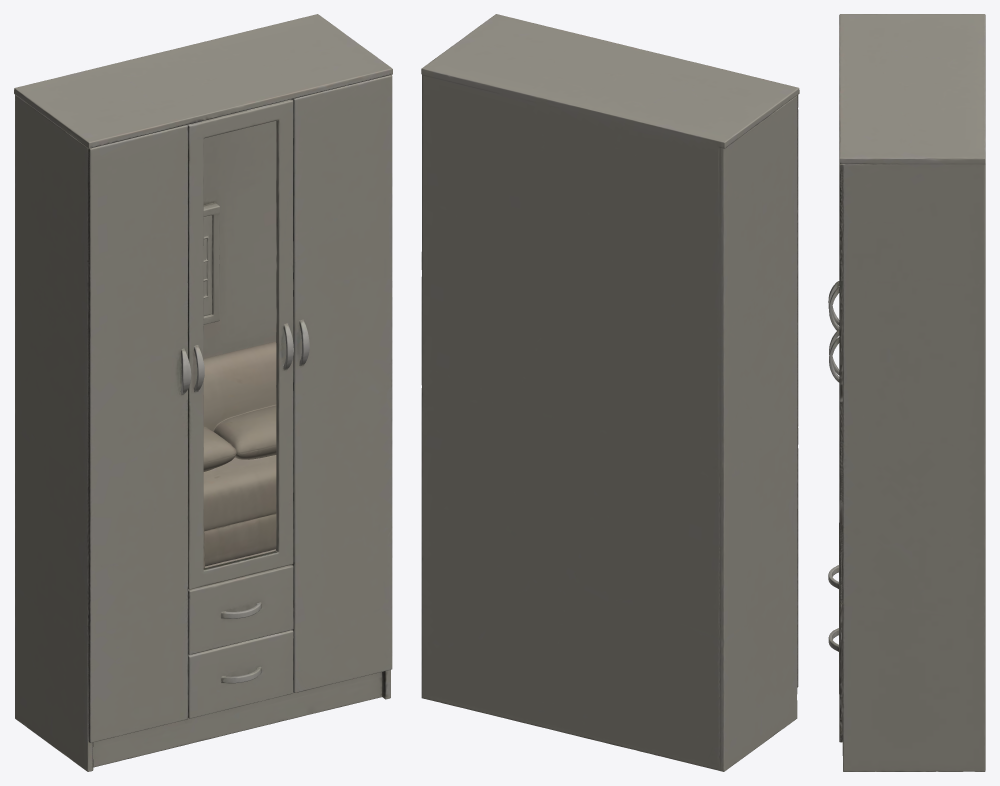
The model's file is No Name-04.glb.
3 views of the same model, side by side, from view 1: azimuth 30°, elevation 25°; view 2: azimuth 150°, elevation 25°; view 3: azimuth 270°, elevation 25° (orthographic). The views are drawn at different scales.
Visible parts, largest first — view 1: tripo_node_7951ab24-971f-45cb-a343-2d275053acb4; view 2: tripo_node_7951ab24-971f-45cb-a343-2d275053acb4; view 3: tripo_node_7951ab24-971f-45cb-a343-2d275053acb4.
Boxes of the visible parts, <box> form: tripo_node_7951ab24-971f-45cb-a343-2d275053acb4: <box>14,14,392,771</box>; tripo_node_7951ab24-971f-45cb-a343-2d275053acb4: <box>421,14,799,771</box>; tripo_node_7951ab24-971f-45cb-a343-2d275053acb4: <box>828,14,985,771</box>.
Size of the model in its own units: 0.4938 by 0.9784 by 0.2271.
1 material, 1 textured.
